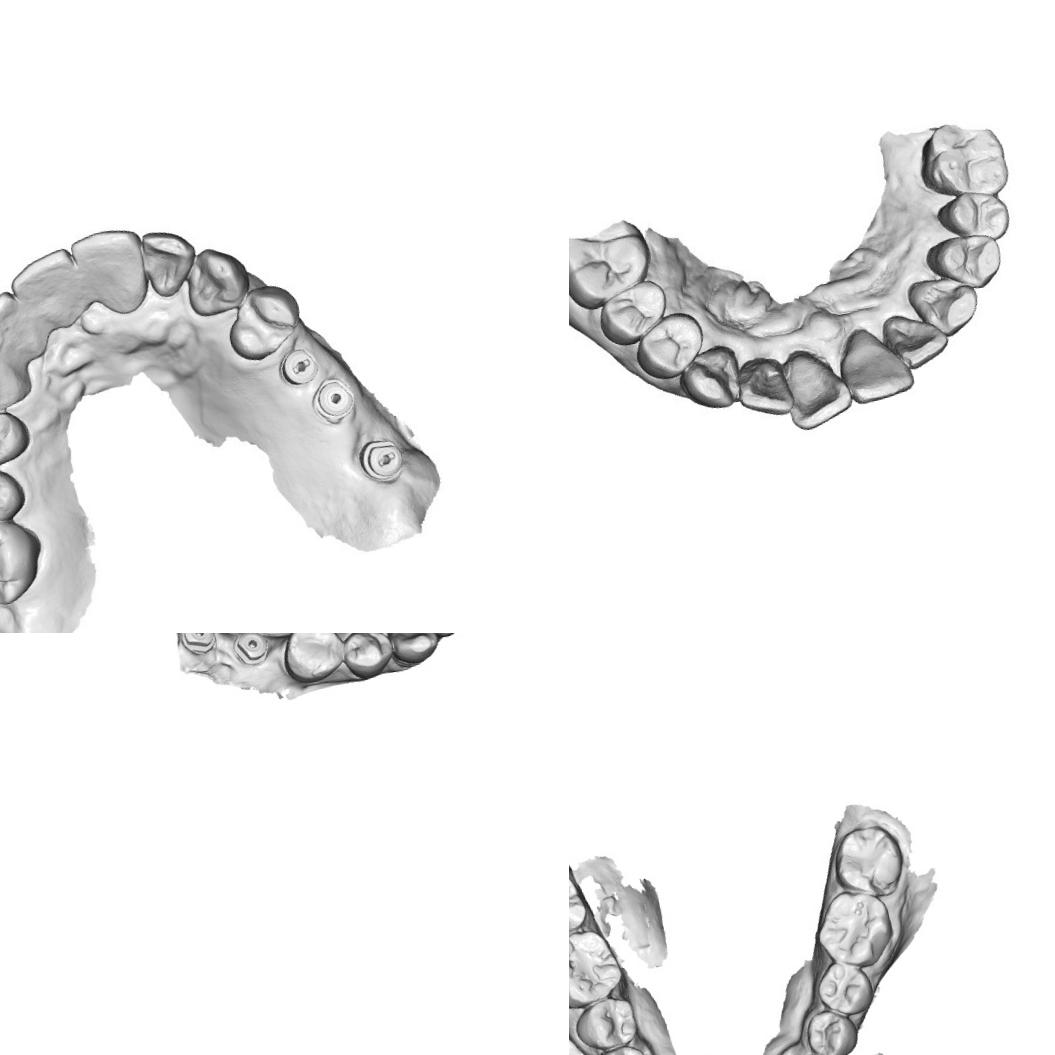canine: (177, 238, 255, 322), (901, 270, 984, 344), (674, 342, 747, 418), (0, 331, 36, 420), (383, 633, 442, 671)
implant: (308, 372, 362, 429), (228, 633, 272, 668), (175, 633, 219, 658)
implant_minus: (353, 432, 412, 488), (276, 337, 324, 391)
incisor: (4, 244, 86, 332), (66, 223, 151, 306), (779, 342, 854, 434), (837, 322, 914, 403), (135, 219, 202, 300), (887, 307, 950, 369), (736, 352, 790, 416), (0, 286, 37, 365)
molar: (921, 112, 1014, 207), (807, 882, 900, 976), (569, 219, 654, 315), (825, 817, 910, 905), (569, 922, 628, 1015), (0, 506, 49, 611), (569, 865, 593, 947)
premolar: (219, 278, 307, 366), (624, 306, 714, 386), (592, 274, 674, 352), (919, 226, 1009, 297), (930, 184, 1012, 250), (811, 954, 878, 1022), (569, 992, 640, 1054), (275, 633, 348, 688), (799, 1003, 863, 1055), (336, 633, 397, 683), (0, 401, 37, 475), (0, 458, 29, 527), (587, 1041, 652, 1055)
